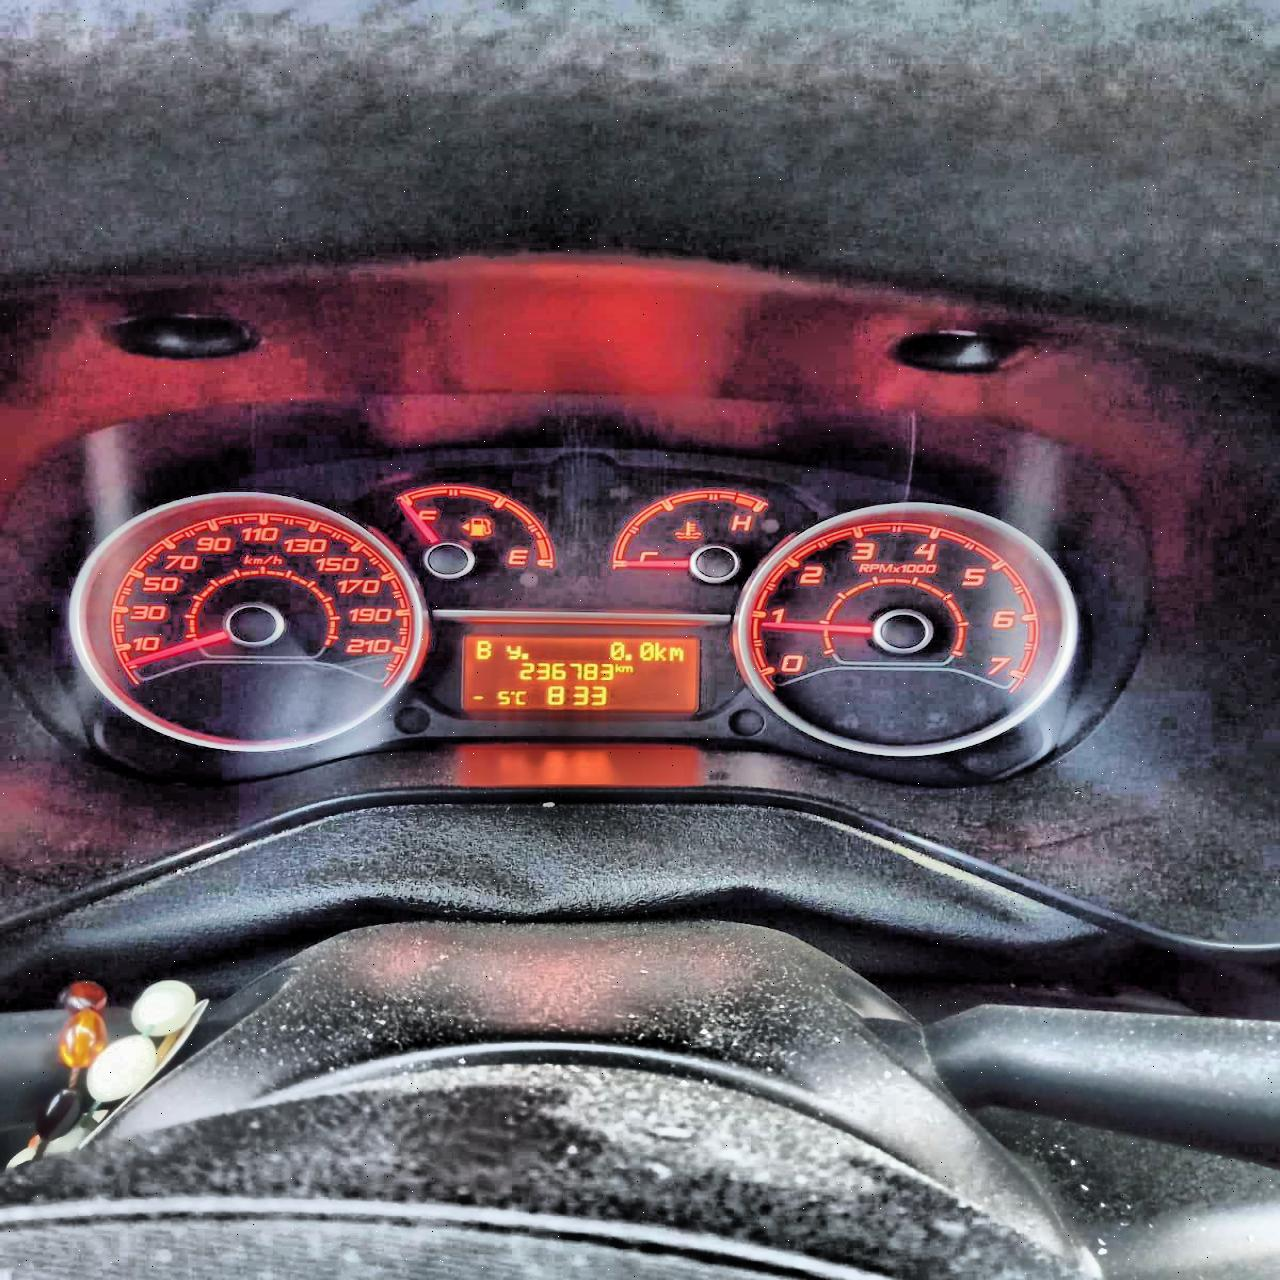-: (519, 652, 527, 659), (622, 654, 632, 660)
0: (639, 641, 654, 660), (610, 641, 624, 660)
2: (519, 662, 535, 679)
3: (588, 686, 606, 704), (571, 685, 587, 704), (535, 662, 550, 679)
5: (496, 689, 510, 704)
6: (551, 662, 565, 680)
7: (566, 662, 581, 680)
8: (545, 685, 563, 704), (583, 662, 598, 680)
X: (475, 639, 490, 659), (653, 641, 666, 661), (504, 644, 519, 659), (667, 646, 682, 660), (515, 689, 526, 704), (621, 665, 632, 672), (613, 663, 620, 672)
odometer: (457, 632, 700, 714)
